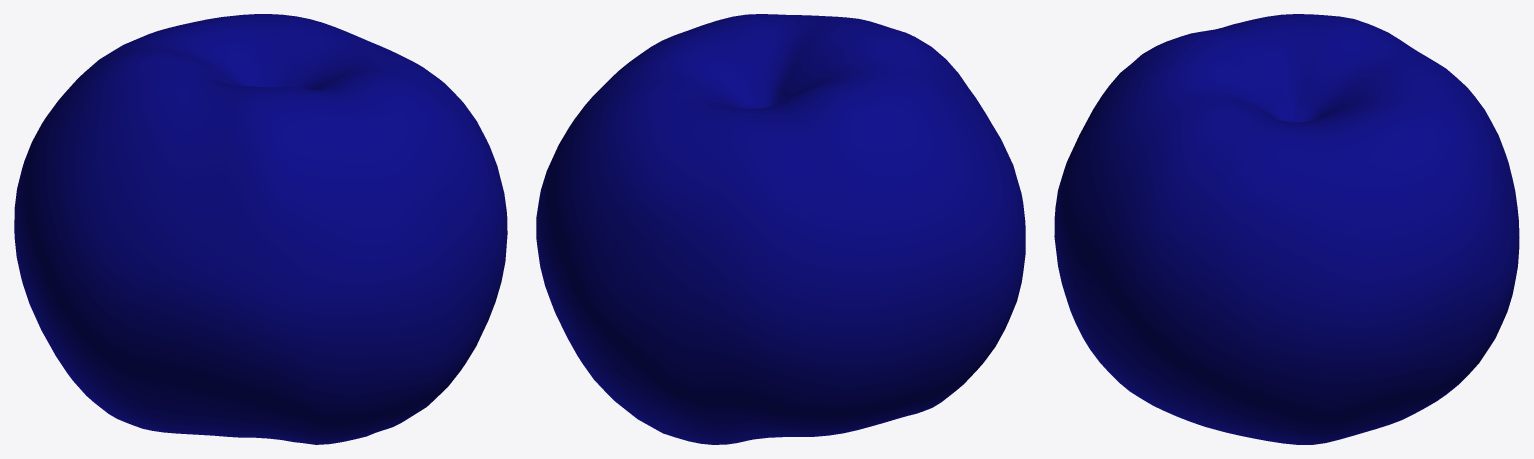
The model's file is singleapple.obj.
3 views of the same model, side by side, from view 1: azimuth 30°, elevation 25°; view 2: azimuth 150°, elevation 25°; view 3: azimuth 270°, elevation 25° (orthographic). The views are drawn at different scales.
Visible parts, largest first — view 1: apple:v_apple005; view 2: apple:v_apple005; view 3: apple:v_apple005.
Part boxes in pixels (x1,y1,x2,y2): apple:v_apple005: (14,14,507,444); apple:v_apple005: (536,14,1025,444); apple:v_apple005: (1054,14,1519,444).
Bounding box in the file's own units: 13.67 × 10.77 × 13.52.
